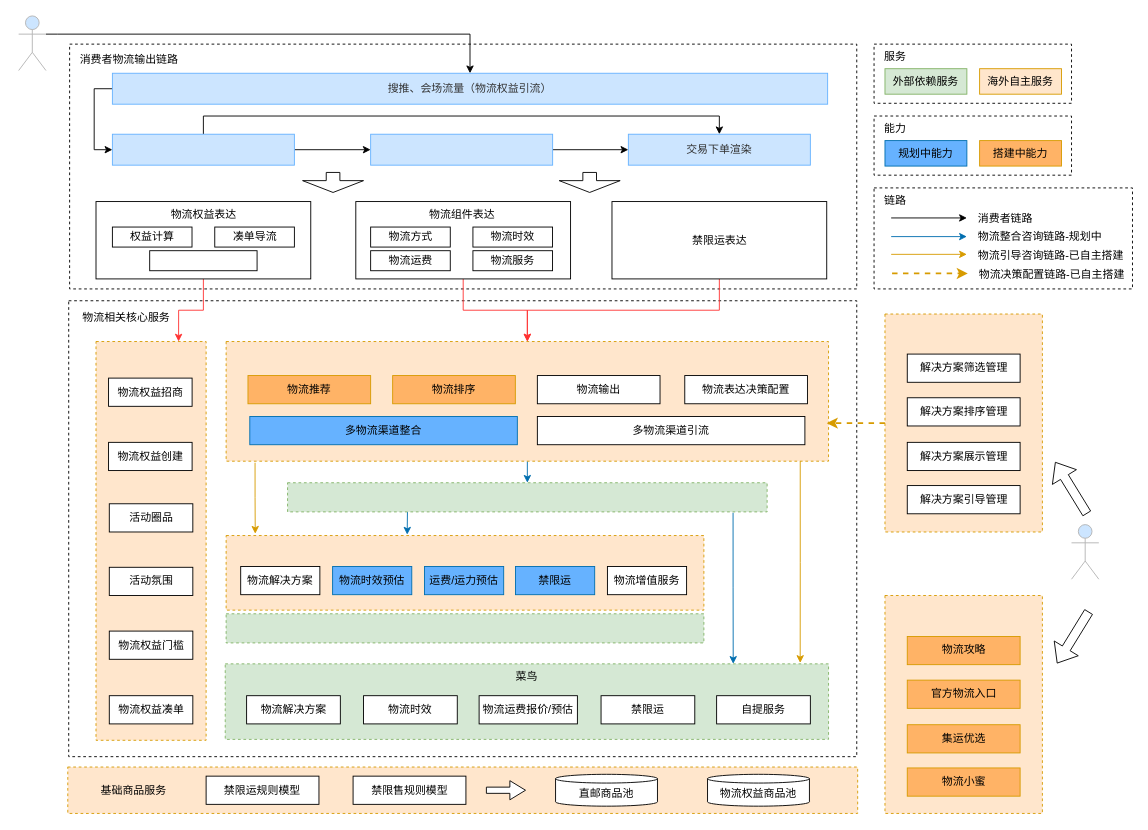
The diagram is 1148 pixels wide and 830 high, and some of its shapes have lost their labels. Each missing label, with the box of its shape:
千帆: (225, 535, 704, 610)
商品详情渲染: (111, 133, 294, 165)
国内供应链中台: (287, 482, 767, 512)
外部第三方集运商: (225, 613, 704, 643)
海外物流中心: (884, 595, 1042, 813)
海外物流履约表达服务: (225, 341, 829, 461)
海外物流运营平台: (884, 313, 1042, 532)
消费者: (18, 15, 46, 71)
物流权益氛围: (149, 250, 257, 271)
物流营销服务: (95, 341, 206, 740)
物流运营: (1071, 524, 1099, 579)
购物车渲染: (370, 133, 553, 165)
